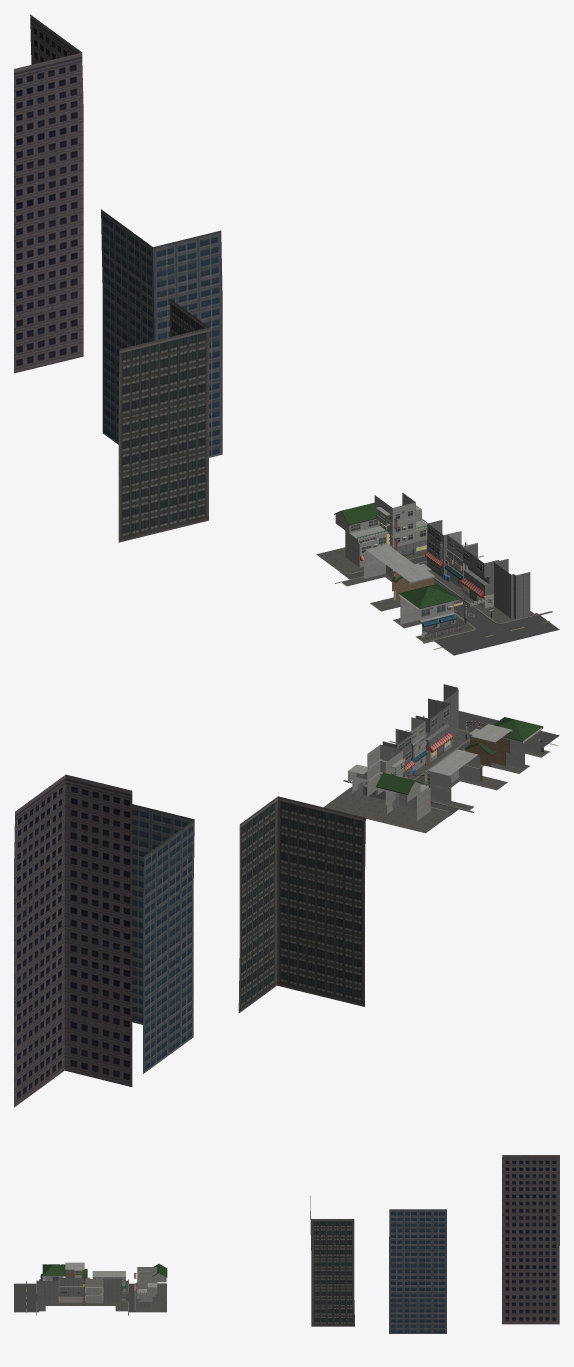
File: town.glb
3 renders of one model, top to bottom at view 1: azimuth 30°, elevation 25°; view 2: azimuth 150°, elevation 25°; view 3: azimuth 270°, elevation 25°, orthographic. The views are drawn at different scales.
Parts seen in each view (by area): view 1: Object_2; view 2: Object_2; view 3: Object_2.
Part boxes in pixels (x1,y1,x2,y2): Object_2: (14, 14, 559, 655); Object_2: (14, 684, 559, 1107); Object_2: (14, 1155, 559, 1333).
Size of the model in its own units: 29.35 by 50.68 by 134.
1 material, 1 textured.
